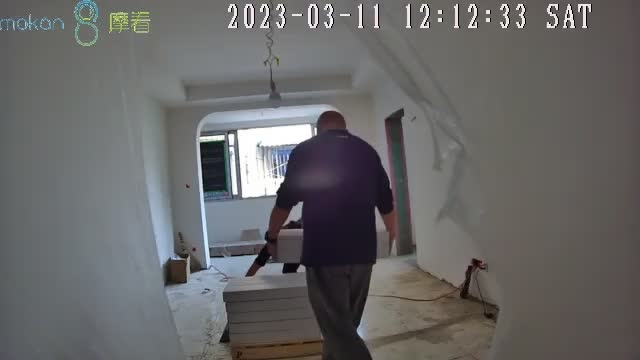people: (267, 112, 398, 360)
window: (199, 124, 314, 201)
